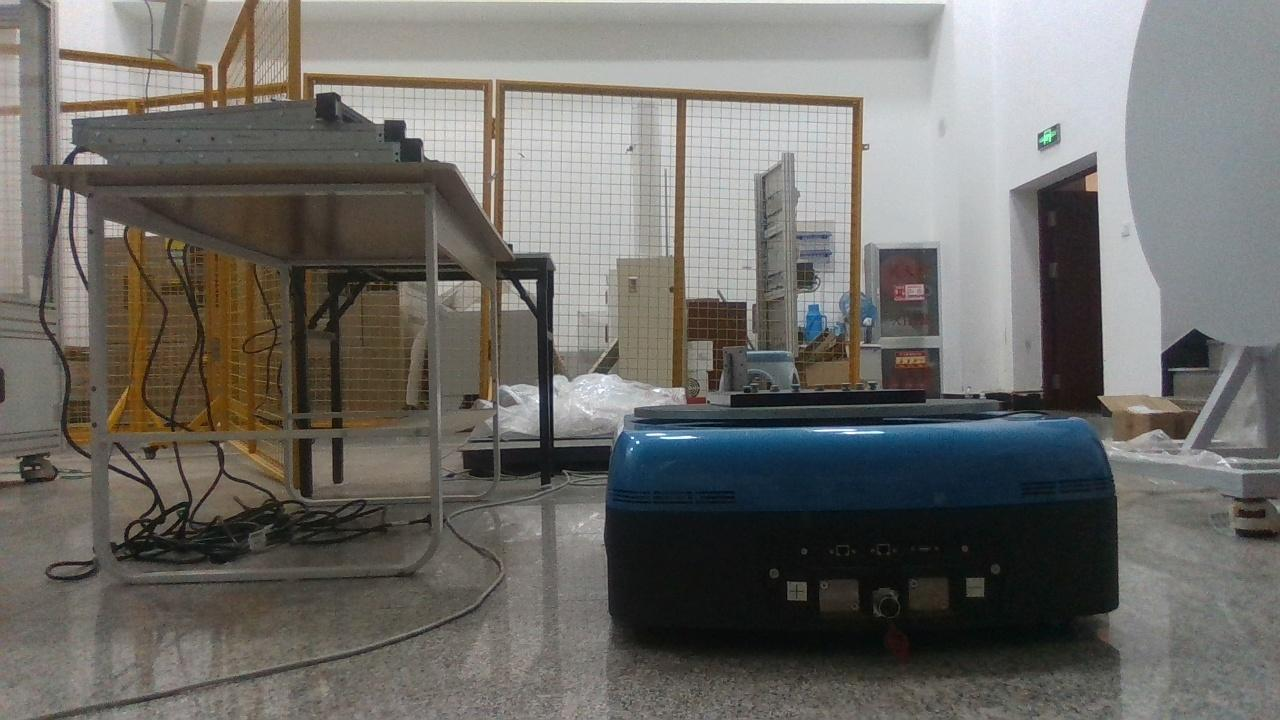AGV: (605, 390, 1118, 640)
